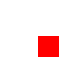square: (38, 36, 58, 56)
